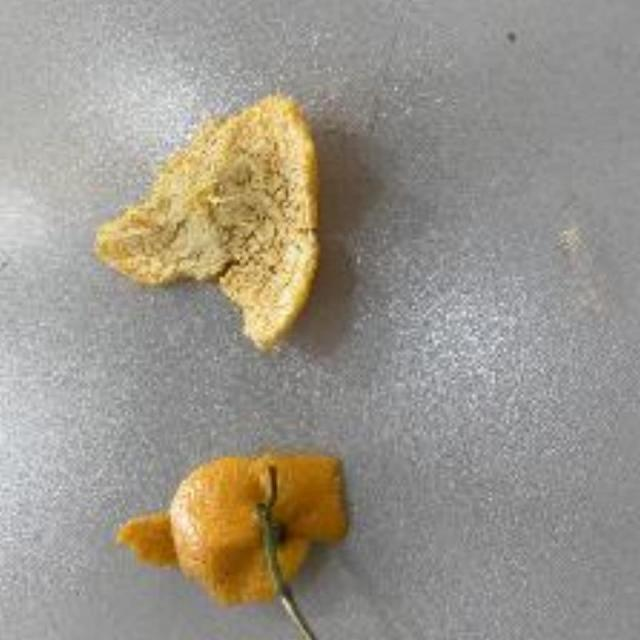orange-peel: (89, 91, 328, 352), (113, 444, 357, 640)
